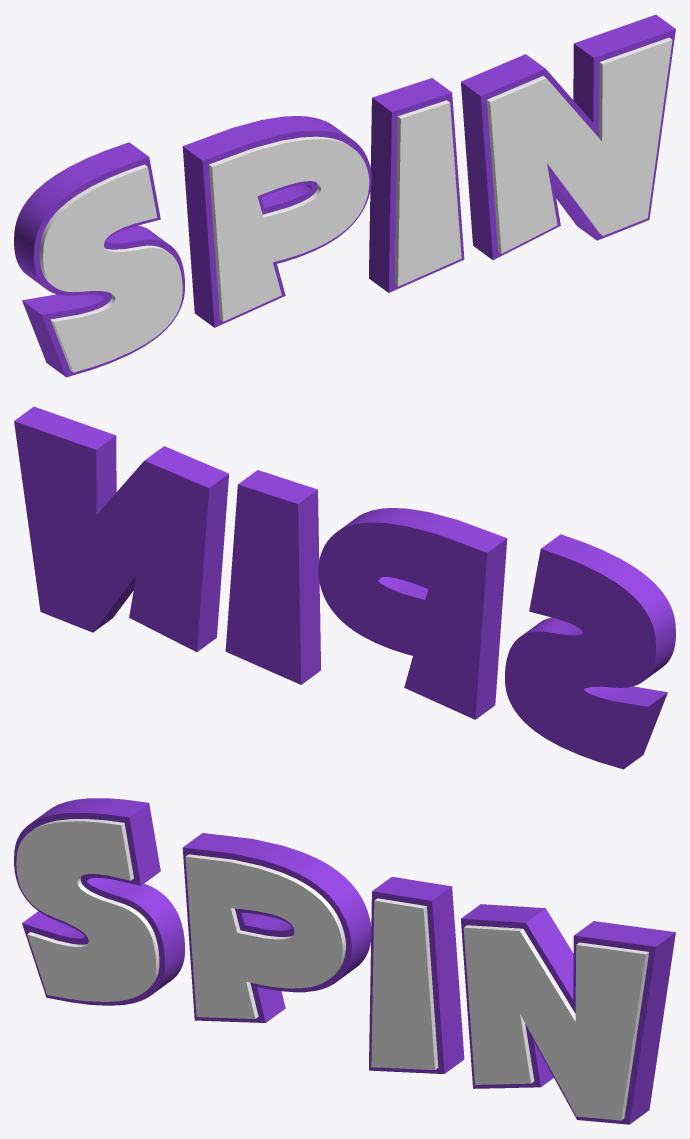
The model's file is Spin.gltf.
The picture shows the model from 3 angles, top to bottom: view 1: azimuth 30°, elevation 25°; view 2: azimuth 150°, elevation 25°; view 3: azimuth 330°, elevation 25°; orthographic projection.
Visible parts, largest first — view 1: Text.2-Mat, Text.2-Mat.1; view 2: Text.2-Mat.1; view 3: Text.2-Mat, Text.2-Mat.1.
Part boxes in pixels (box(x1,y1,x2,y2)): Text.2-Mat: box(39, 37, 672, 372); Text.2-Mat.1: box(14, 14, 675, 377); Text.2-Mat.1: box(14, 406, 675, 769); Text.2-Mat: box(16, 819, 649, 1120); Text.2-Mat.1: box(14, 798, 675, 1124).
Size of the model in its own units: 55.75 by 16.64 by 3.5.
